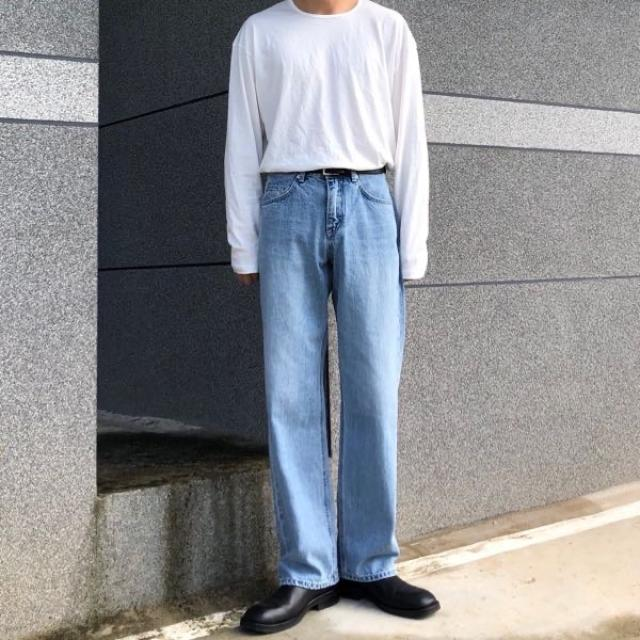denimpants: (257, 168, 407, 590)
longsleeve: (224, 0, 427, 278)
